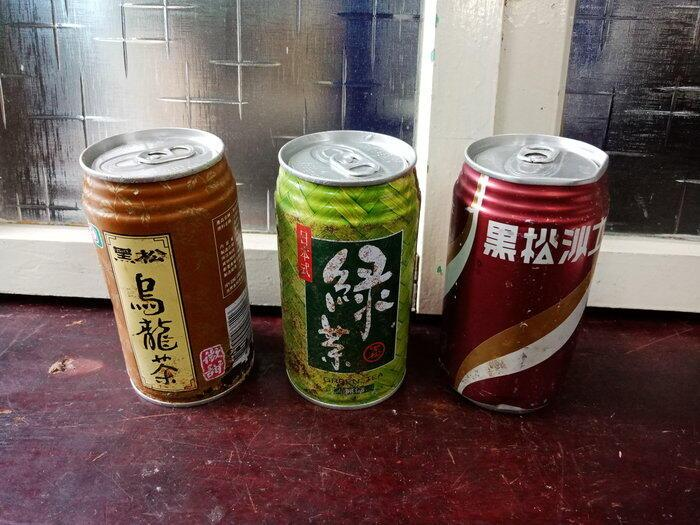metal: (76, 113, 260, 408), (443, 123, 616, 422), (270, 129, 419, 411)
